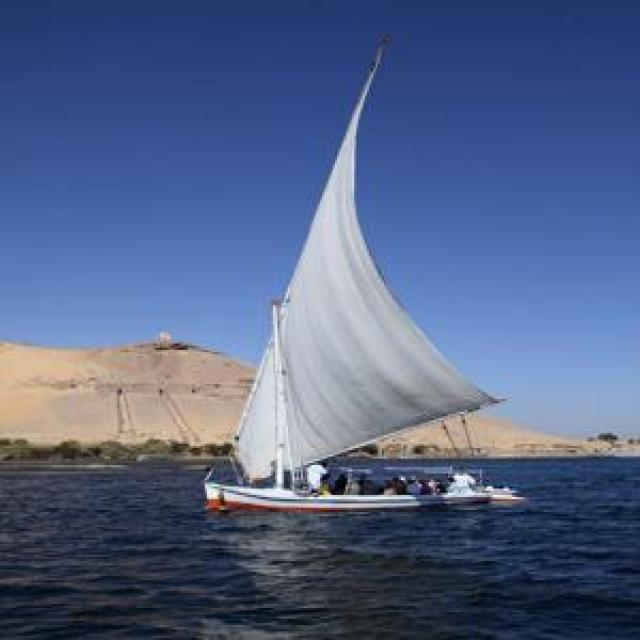sailboat: (193, 28, 533, 506)
